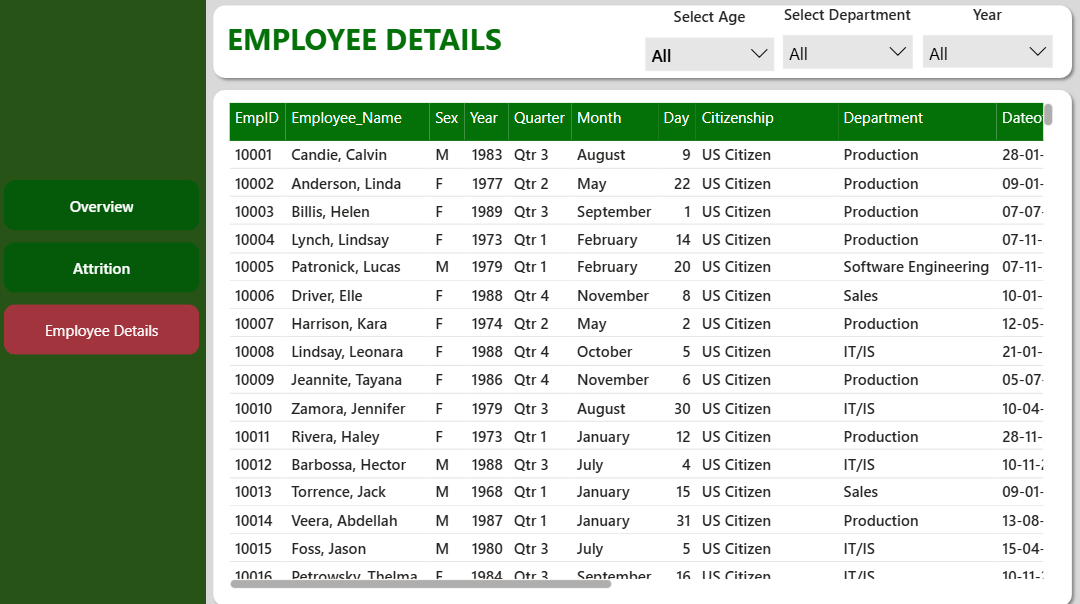

This screenshot's page, from the dashboard's own definition file:
{"tool":"powerbi","page":{"name":"Employee Details","canvas":[1280,720],"ordinal":2},"visuals":[{"type":"slicer","title":"Year","fields":{"Values":["Date Table.Year"]},"box":[969.8,92.6,135.3,57],"z":0},{"type":"textbox","box":[356.8,100.2,435,45.3],"z":1000},{"type":"tableEx","fields":{"Values":["HRDataset.EmpID","HRDataset.Employee_Name","HRDataset.Sex","HRDataset.DOB.Variation.Date Hierarchy.Year","HRDataset.DOB.Variation.Date Hierarchy.Quarter","HRDataset.DOB.Variation.Date Hierarchy.Month","HRDataset.DOB.Variation.Date Hierarchy.Day","HRDataset.Citizenship","HRDataset.Department","HRDataset.DateofHire","HRDataset.Employee Age Band","HRDataset.EmploymentStatus"]},"box":[358.1,175.6,743.7,441.9],"z":2000},{"type":"slicer","title":"Select Department","fields":{"Values":["HRDataset.Department"]},"box":[845.9,92.6,135.3,64.1],"z":3000},{"type":"slicer","title":"Select Age","fields":{"Values":["HRDataset.Employee Age Band"]},"box":[723.2,94.7,134.5,65.9],"z":4000},{"type":"pageNavigator","box":[163.5,229.4,174.5,195.1],"z":5000}]}

Visuals, with their boxes on the page's 1280x720 design canvas (x1, y1, x2, y2). These are canvas units, not pixel positions in the 1080x604 screenshot, which may show the page scaled, cropped or inside an application window:
"Year" slicer: [970, 93, 1105, 150]
textbox: [357, 100, 792, 146]
tableEx - HRDataset.EmpID x HRDataset.Employee_Name: [358, 176, 1102, 618]
"Select Department" slicer: [846, 93, 981, 157]
"Select Age" slicer: [723, 95, 858, 161]
pageNavigator: [164, 229, 338, 424]
